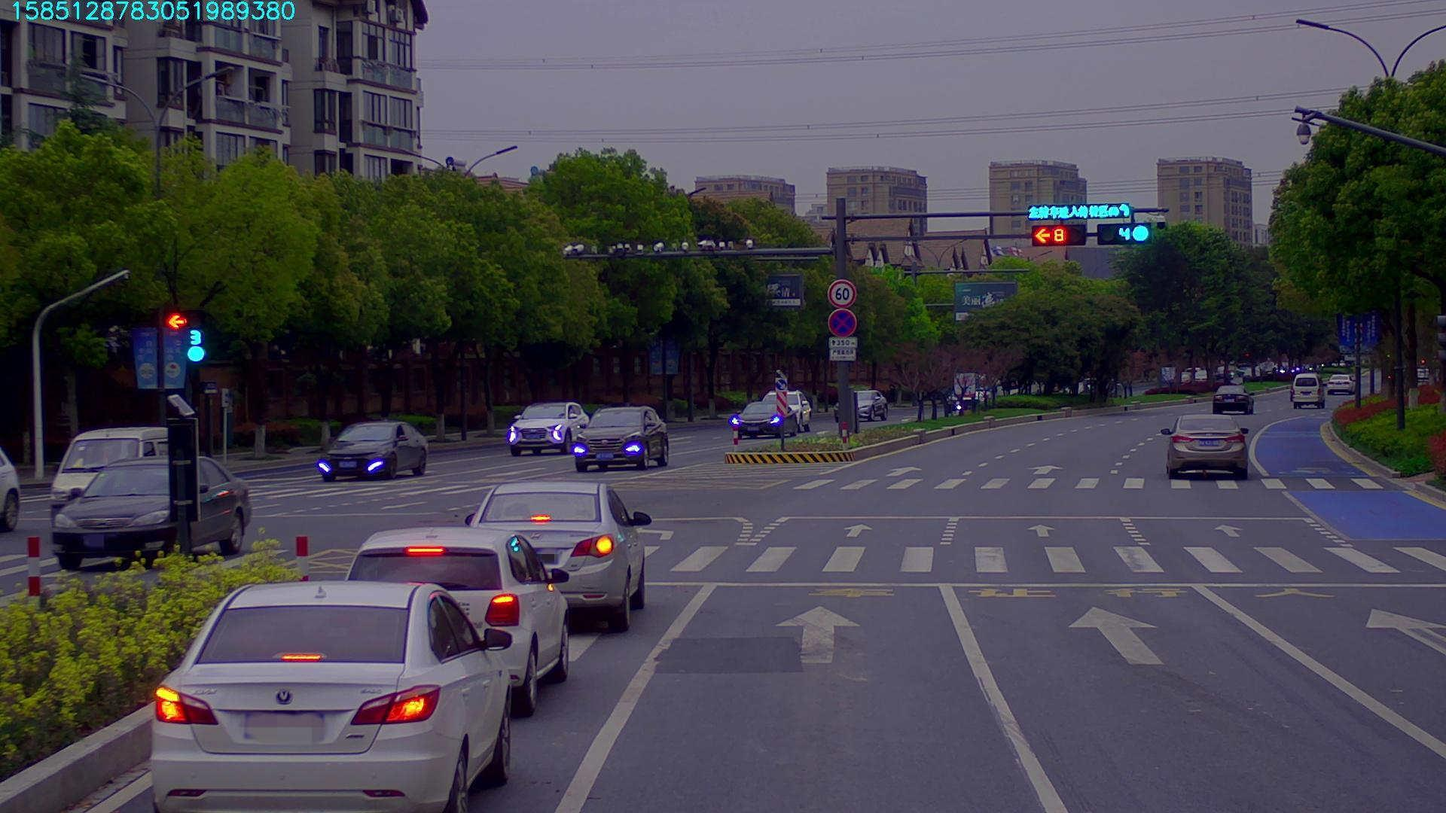green: (1098, 224, 1149, 238)
red: (1030, 224, 1084, 244)
wait_on: (1027, 202, 1130, 220)
